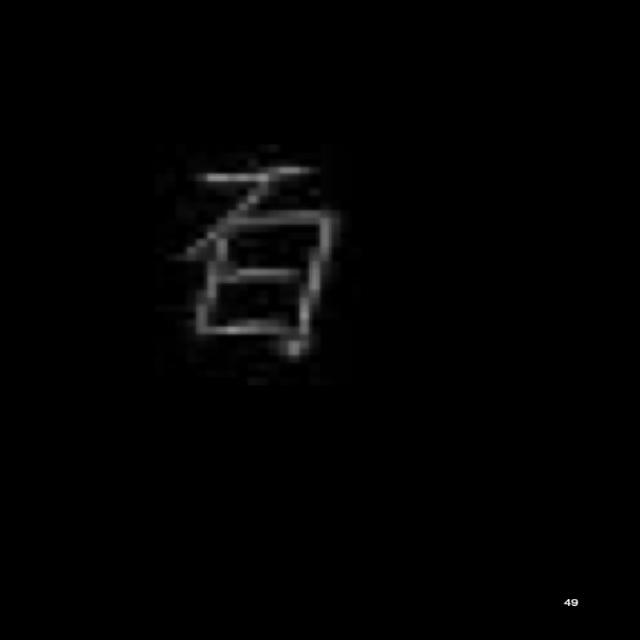100 -a hundred-: (178, 154, 344, 356)
